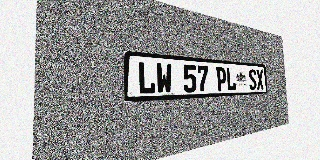5: (183, 64, 197, 93)
7: (196, 65, 209, 92)
L: (137, 61, 156, 95), (226, 67, 236, 91)
P: (216, 67, 227, 91)
S: (248, 69, 257, 90)
W: (156, 63, 172, 94)
X: (256, 69, 264, 90)
